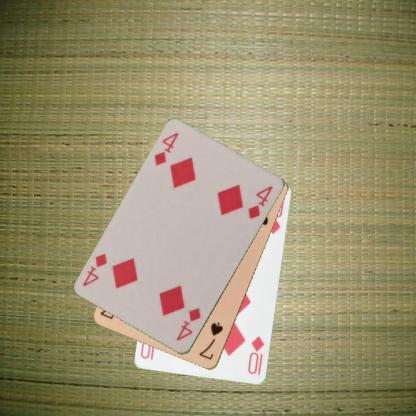10d: (245, 334, 266, 376)
4d: (174, 305, 202, 343), (152, 130, 180, 168)
7s: (196, 320, 225, 362)
